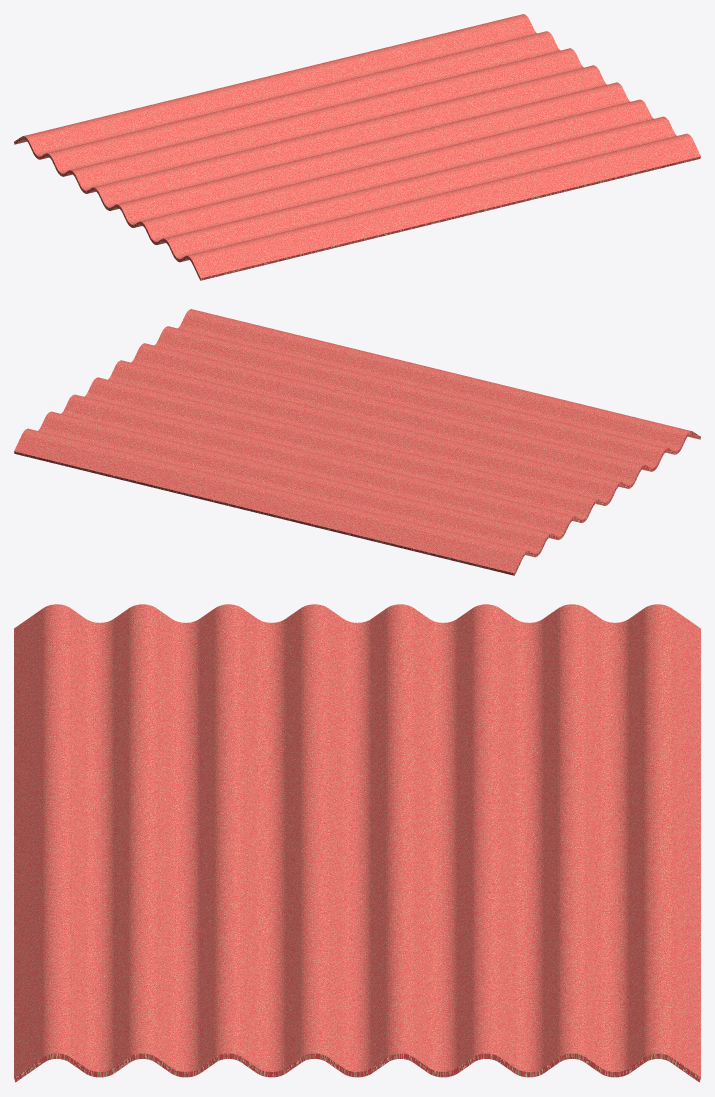
The model's file is Project Name.gltf.
The picture shows the model from 3 angles, top to bottom: view 1: azimuth 30°, elevation 25°; view 2: azimuth 150°, elevation 25°; view 3: azimuth 270°, elevation 25°; orthographic projection. The views are drawn at different scales.
Visible parts, largest first — view 1: Plane_Plane.004; view 2: Plane_Plane.004; view 3: Plane_Plane.004.
Part boxes in pixels (left/top/right/bottom): Plane_Plane.004: left=14, top=14, right=700, bottom=280; Plane_Plane.004: left=14, top=309, right=700, bottom=575; Plane_Plane.004: left=14, top=604, right=700, bottom=1082.
Size of what is drawn, in the model's own units: 0.0331 by 0.001 by 0.0214.
Materials: 1 (1 with a texture image).
